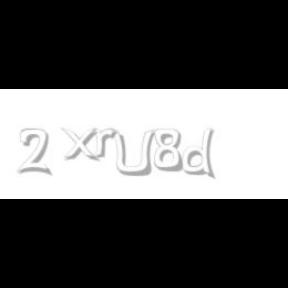2: (16, 128, 50, 176)
8: (154, 128, 182, 172)
U: (110, 128, 154, 178)
d: (181, 128, 218, 180)
r: (92, 128, 120, 158)
x: (61, 128, 103, 162)
